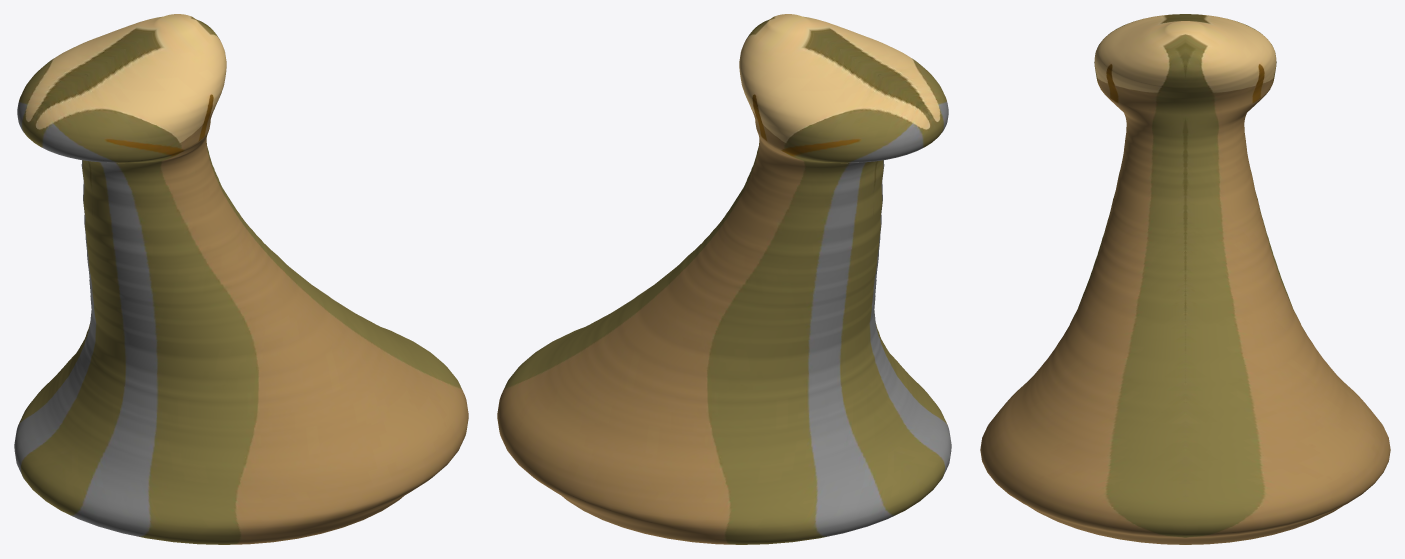
Rendered from olive_vent.glb.
3 renders of one model, left to right at view 1: azimuth 30°, elevation 25°; view 2: azimuth 150°, elevation 25°; view 3: azimuth 270°, elevation 25°, orthographic. The views are drawn at different scales.
Parts seen in each view (by area): view 1: olive_vent; view 2: olive_vent; view 3: olive_vent.
Part boxes in pixels (bbox=[...]): olive_vent: bbox=[14, 14, 468, 544]; olive_vent: bbox=[497, 14, 951, 544]; olive_vent: bbox=[980, 14, 1390, 544].
Size of the model in its own units: 0.9971 by 1.13 by 0.9341.
Materials: 1 (1 with a texture image).
